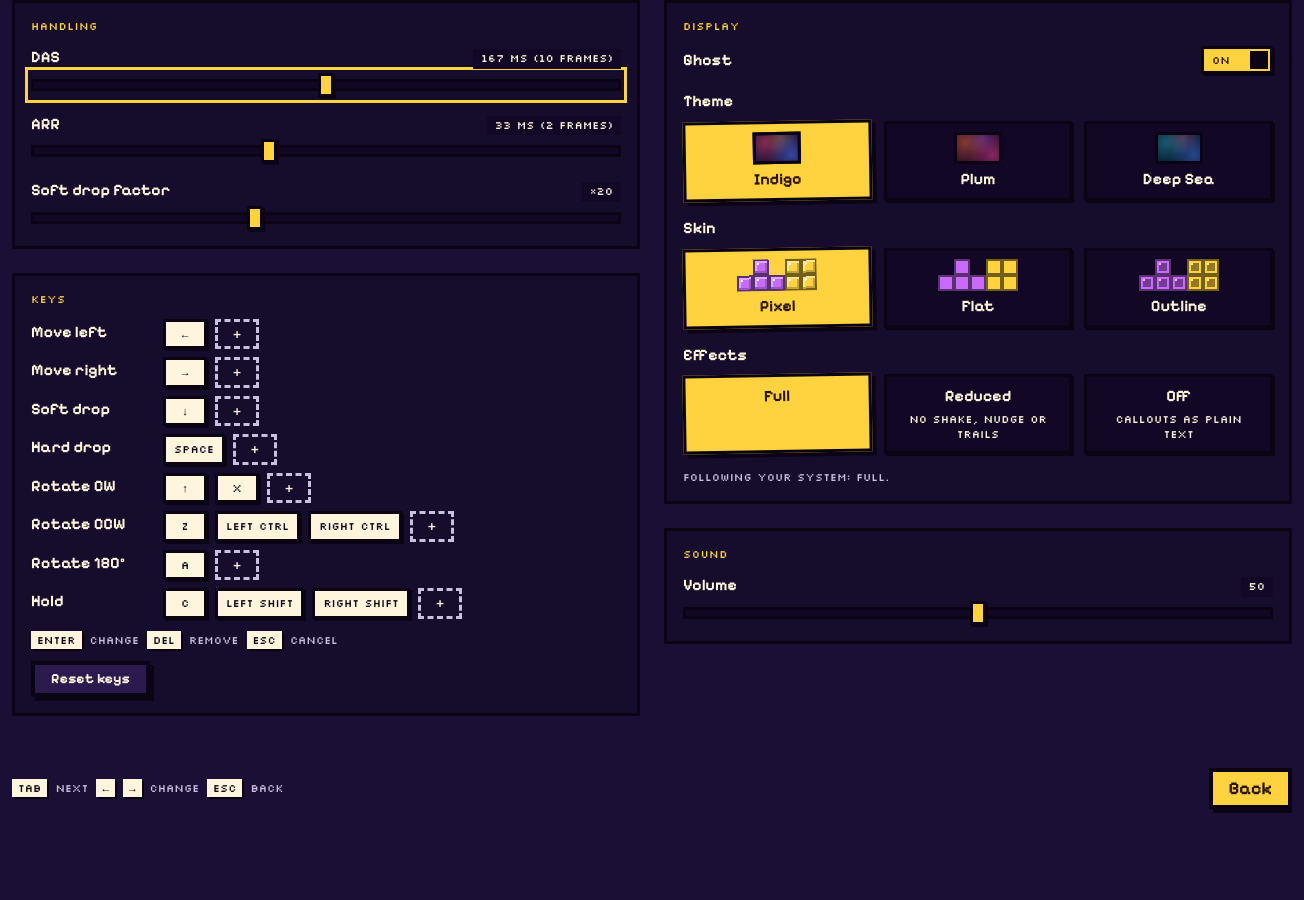
Scenario: leaving and saving › a save that fails says why, and the change still holds
Click the switch labelled "Ghost": click(708, 60) x1=683 y1=46 x2=1273 y2=74
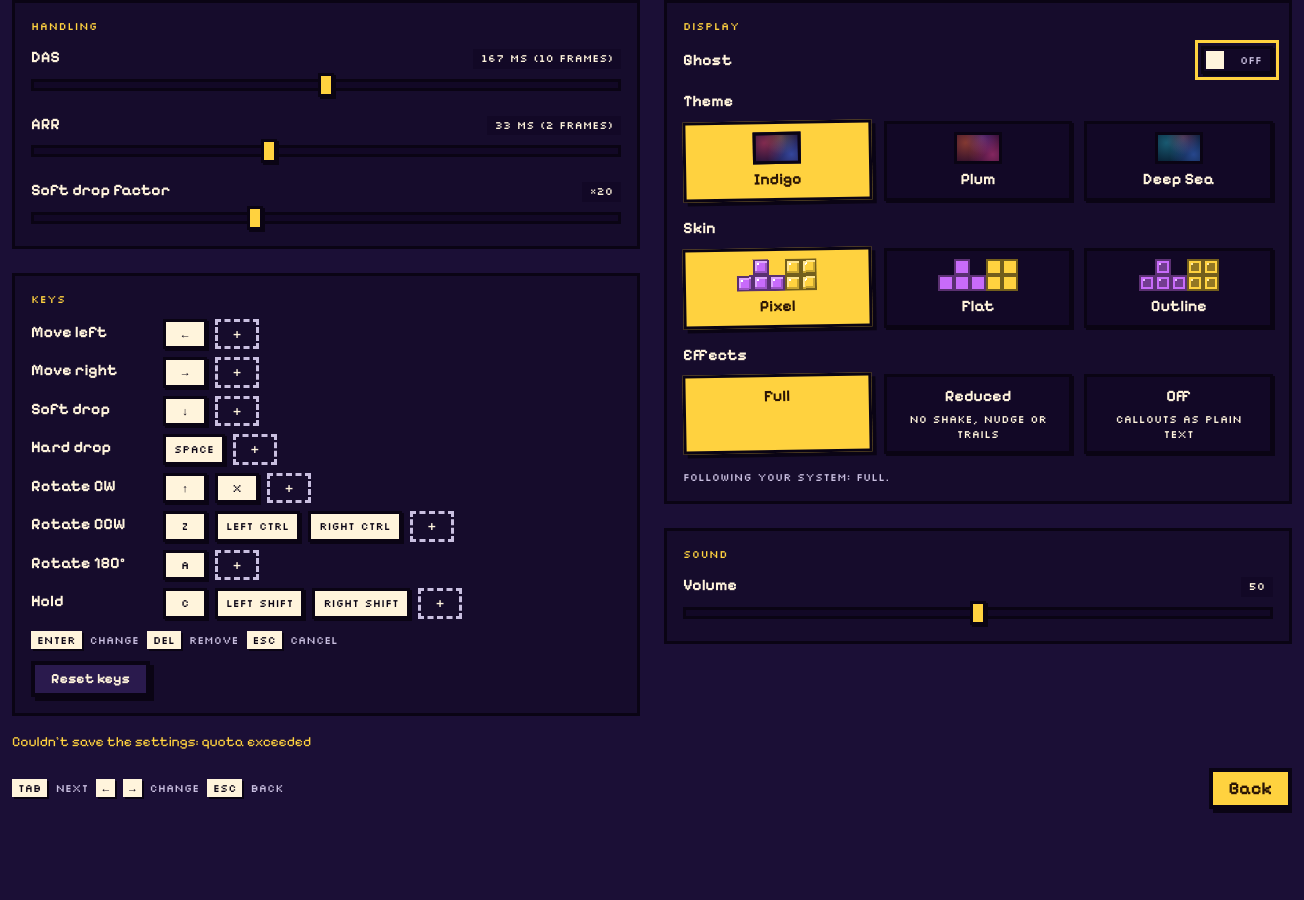
Check: the message with test id "settings-message" reads "Couldn't save the settings: quota exceeded", box x1=12 y1=733 x2=311 y2=750
